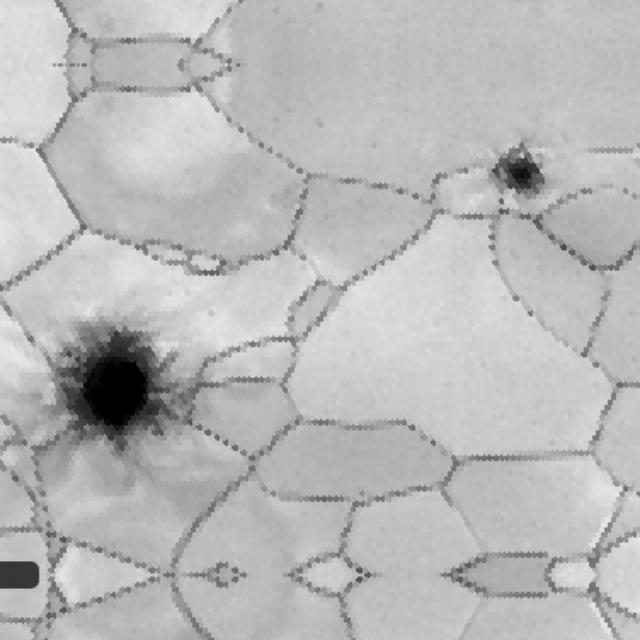good_void: (25, 301, 195, 496), (490, 133, 553, 205), (314, 116, 326, 130), (314, 1, 326, 15), (370, 141, 380, 153), (496, 198, 505, 208), (207, 309, 216, 319)
